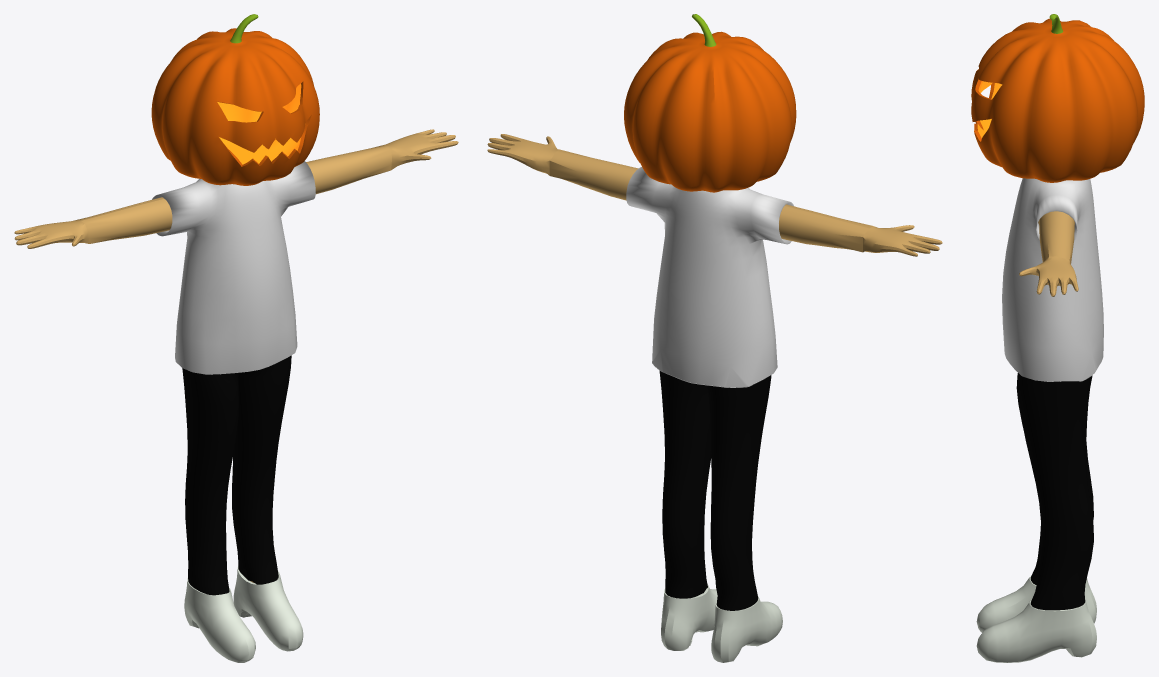
The model's file is avatar.glb.
3 views of the same model, side by side, from view 1: azimuth 30°, elevation 25°; view 2: azimuth 150°, elevation 25°; view 3: azimuth 270°, elevation 25° (orthographic). The views are drawn at different scales.
Visible parts, largest first — view 1: personnage, teeshirt_perso, pantalon, chaussures; view 2: personnage, teeshirt_perso, pantalon, chaussures; view 3: personnage, teeshirt_perso, pantalon, chaussures.
Part boxes in pixels (x1=…): personnage: x1=14, y1=14, x2=458, y2=582; teeshirt_perso: x1=152, y1=161, x2=315, y2=374; pantalon: x1=182, y1=355, x2=291, y2=595; chaussures: x1=184, y1=566, x2=303, y2=662; personnage: x1=487, y1=14, x2=942, y2=256; teeshirt_perso: x1=626, y1=167, x2=793, y2=387; pantalon: x1=659, y1=370, x2=771, y2=610; chaussures: x1=661, y1=584, x2=782, y2=662; personnage: x1=971, y1=14, x2=1144, y2=296; teeshirt_perso: x1=1002, y1=178, x2=1103, y2=381; pantalon: x1=1016, y1=373, x2=1093, y2=610; chaussures: x1=976, y1=575, x2=1096, y2=662.
Size of the model in its own units: 1.88 by 2.51 by 0.6161.
7 materials, 1 textured.
